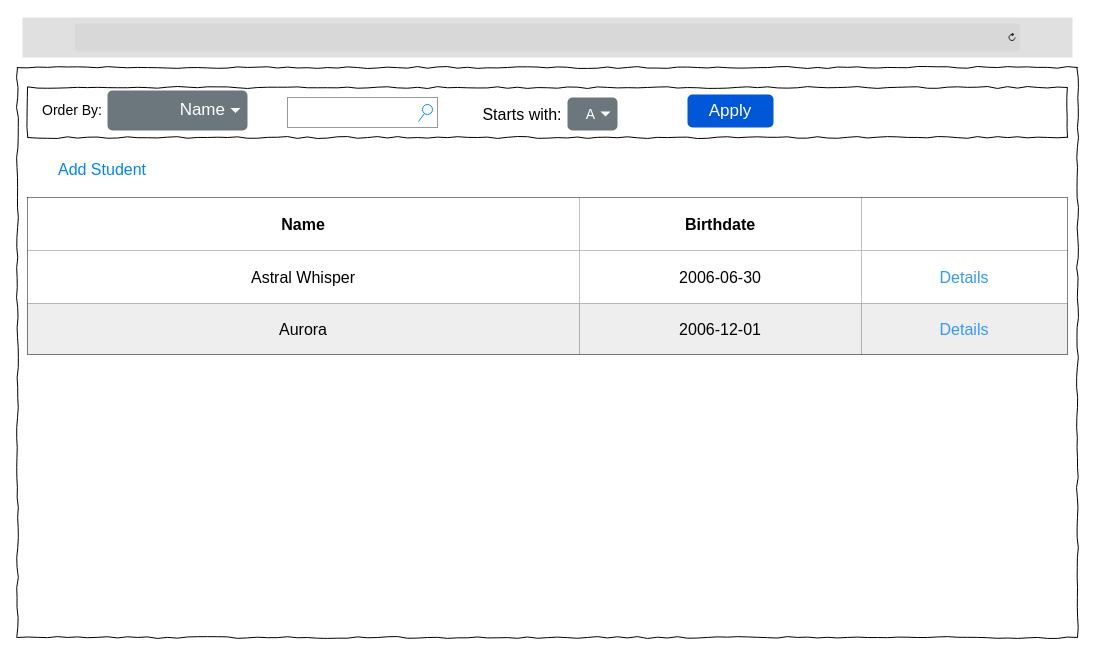
Some shapes in this 1095 by 655 pixel diagram are drawn without their labels. Each missing label, with the centre of its shape:
fourthwallacademy.com/Students: (x=547, y=37)
Search: (x=362, y=112)
